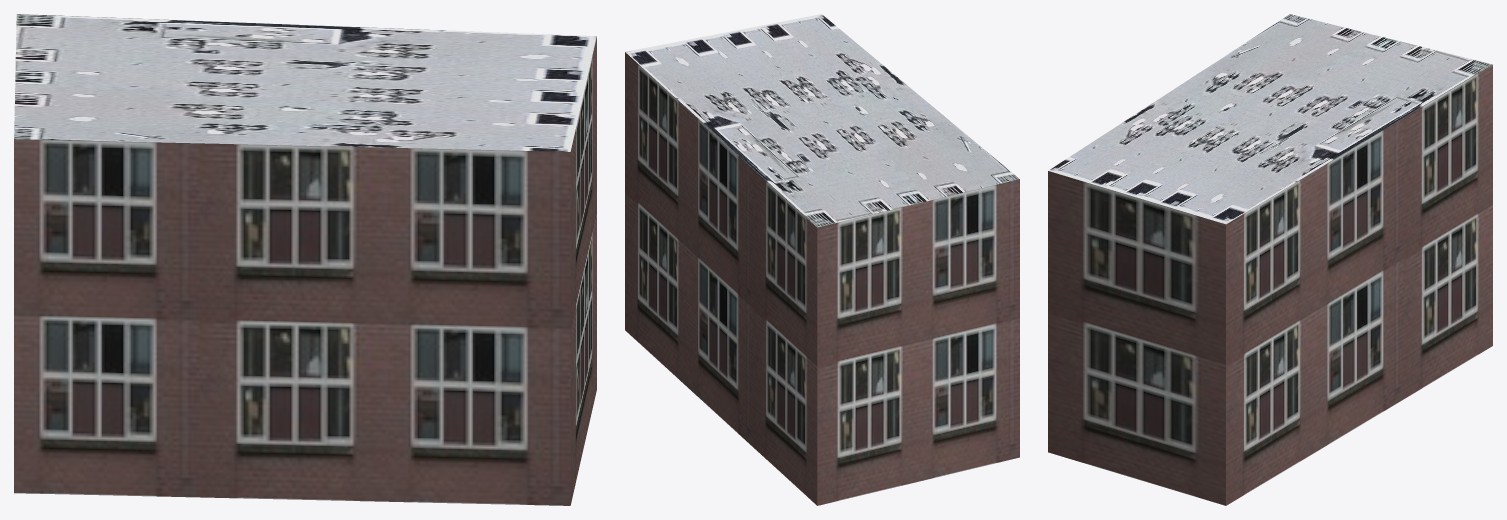
The model's file is ResTex__4412.fbx.
3 views of the same model, side by side, from view 1: azimuth 30°, elevation 25°; view 2: azimuth 150°, elevation 25°; view 3: azimuth 270°, elevation 25° (orthographic). The views are drawn at different scales.
Visible parts, largest first — view 1: CityEngineMaterial_12_m, CityEngineMaterial_m; view 2: CityEngineMaterial_12_m, CityEngineMaterial_m; view 3: CityEngineMaterial_12_m, CityEngineMaterial_m.
Boxes of the visible parts, box(x1,y1,x2,y2) form: CityEngineMaterial_12_m: box(14, 36, 596, 505); CityEngineMaterial_m: box(14, 14, 596, 151); CityEngineMaterial_12_m: box(625, 52, 1019, 505); CityEngineMaterial_m: box(625, 14, 1019, 227); CityEngineMaterial_12_m: box(1048, 64, 1492, 505); CityEngineMaterial_m: box(1048, 14, 1492, 224).
Size of the model in its own units: 9.62 by 6 by 8.59.
Materials: 2 (2 with a texture image).
